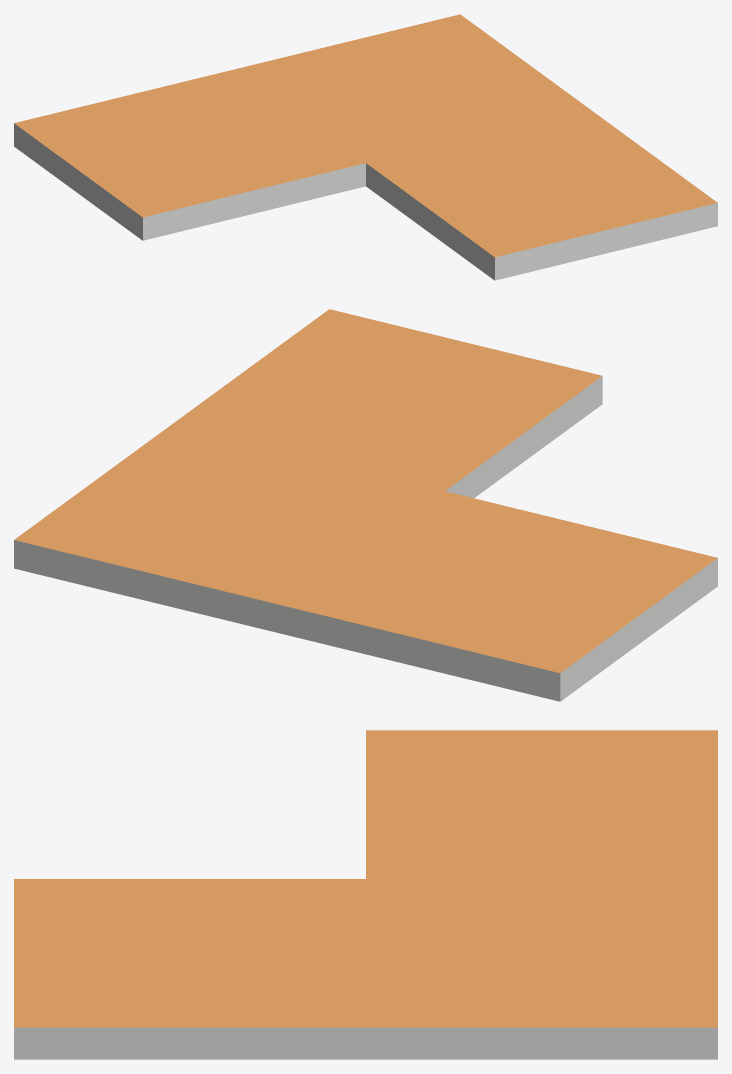
Rendered from laje_abertura_caracol.glb.
The picture shows the model from 3 angles, top to bottom: view 1: azimuth 30°, elevation 25°; view 2: azimuth 150°, elevation 25°; view 3: azimuth 270°, elevation 25°; orthographic projection. The views are drawn at different scales.
Parts seen in each view (by area): view 1: laje_abertura_caracol; view 2: laje_abertura_caracol; view 3: laje_abertura_caracol.
Boxes of the visible parts, x1,y1,x2,y2 form: laje_abertura_caracol: [14, 14, 717, 280]; laje_abertura_caracol: [14, 309, 717, 701]; laje_abertura_caracol: [14, 730, 717, 1059].
Size of the model in its own units: 4 by 0.2 by 4.
